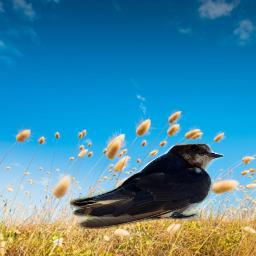Swallow: (70, 143, 224, 229)
